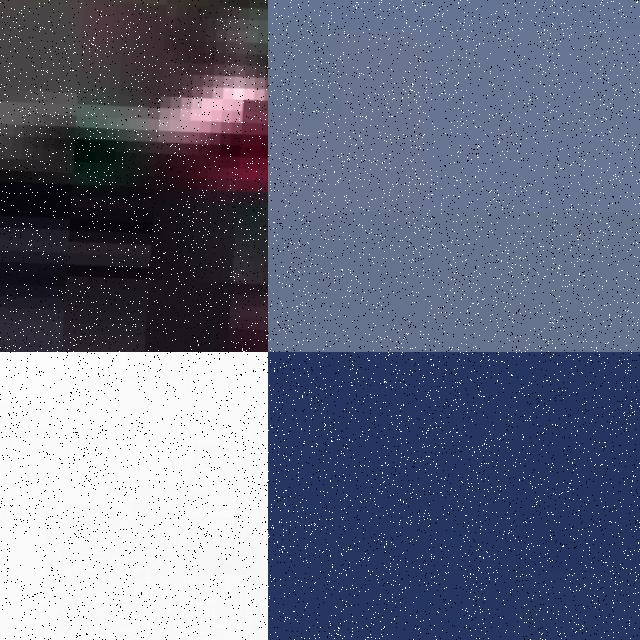drone: (0, 0, 268, 352), (0, 352, 268, 640)
